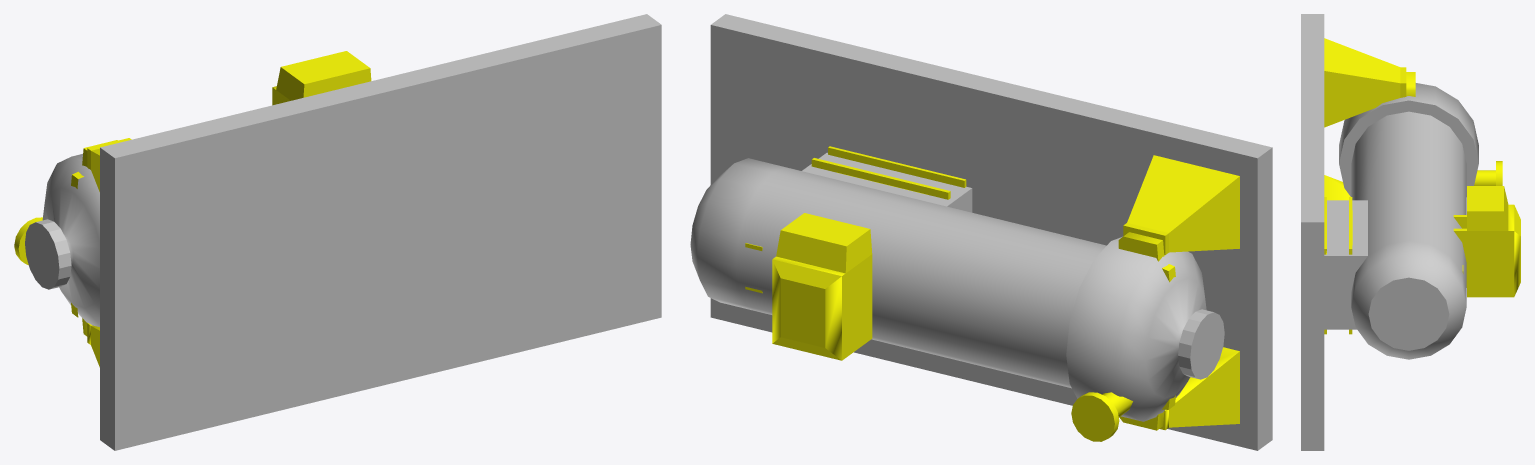
Rendered from sm_hana_bas_hvac_pump.glb.
3 renders of one model, left to right at view 1: azimuth 30°, elevation 25°; view 2: azimuth 150°, elevation 25°; view 3: azimuth 270°, elevation 25°, orthographic. The views are drawn at different scales.
Parts seen in each view (by area): view 1: sm_color_common, sm_hana_bas_hvac_pump; view 2: sm_color_common, sm_hana_bas_hvac_pump; view 3: sm_color_common, sm_hana_bas_hvac_pump.
Boxes of the visible parts, x1,y1,x2,y2 form: sm_color_common: (25, 14, 661, 450); sm_hana_bas_hvac_pump: (14, 51, 371, 367); sm_color_common: (690, 14, 1272, 450); sm_hana_bas_hvac_pump: (745, 146, 1239, 441); sm_color_common: (1301, 14, 1478, 450); sm_hana_bas_hvac_pump: (1324, 38, 1520, 334).
Bounding box in the file's own units: 2.43 × 1.23 × 1.07.
Materials: 2 (1 with a texture image).
